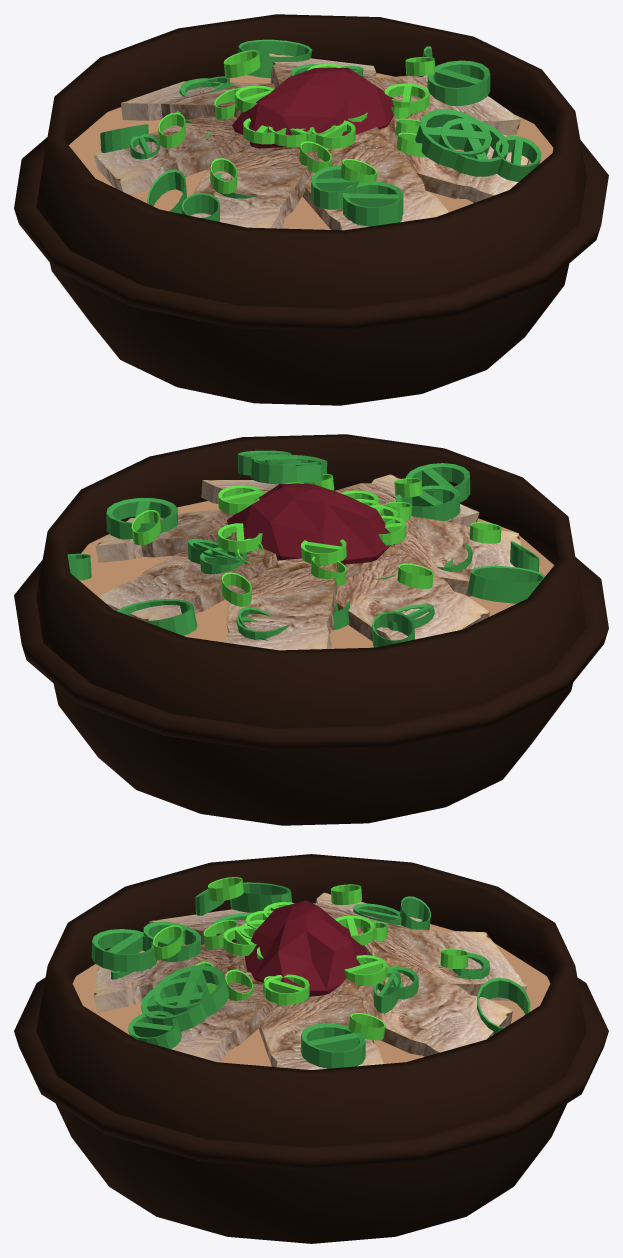
The model's file is Gukbap_Pork.glb.
3 renders of one model, top to bottom at view 1: azimuth 30°, elevation 25°; view 2: azimuth 150°, elevation 25°; view 3: azimuth 270°, elevation 25°, orthographic.
Visible parts, largest first — view 1: Plate, Bite8, Bite9, Bite3, Bite4, Bite2, Bite1, Bite5, Bite7, Bite6; view 2: Plate, Bite8, Bite9, Bite5, Bite4, Bite6, Bite3, Bite7, Bite2, Bite1; view 3: Plate, Bite8, Bite6, Bite9, Bite5, Bite7, Bite1, Bite2, Bite3, Bite4.
Part boxes in pixels (<box>): Plate: <box>14,14,608,405</box>; Bite8: <box>100,39,541,226</box>; Bite9: <box>232,67,395,148</box>; Bite3: <box>191,146,319,228</box>; Bite4: <box>93,116,251,195</box>; Bite2: <box>302,127,448,230</box>; Bite1: <box>379,111,529,202</box>; Bite5: <box>121,81,275,120</box>; Bite7: <box>366,75,520,135</box>; Bite6: <box>268,53,377,87</box>; Plate: <box>14,434,608,825</box>; Bite8: <box>67,450,545,647</box>; Bite9: <box>227,484,394,564</box>; Bite5: <box>224,558,338,650</box>; Bite4: <box>335,544,489,641</box>; Bite6: <box>98,548,278,621</box>; Bite3: <box>394,516,520,603</box>; Bite7: <box>95,509,236,562</box>; Bite2: <box>334,474,479,527</box>; Bite1: <box>201,480,278,503</box>; Plate: <box>14,854,608,1243</box>; Bite8: <box>91,877,530,1068</box>; Bite6: <box>357,950,513,1056</box>; Bite9: <box>244,900,367,996</box>; Bite5: <box>356,927,527,1000</box>; Bite7: <box>258,978,383,1069</box>; Bite1: <box>171,972,277,1062</box>; Bite2: <box>93,943,247,1012</box>; Bite3: <box>149,909,248,944</box>; Bite4: <box>313,892,422,929</box>.
Bounding box in the file's own units: 2.03 × 0.8999 × 2.03.
Materials: 6 (1 with a texture image).
